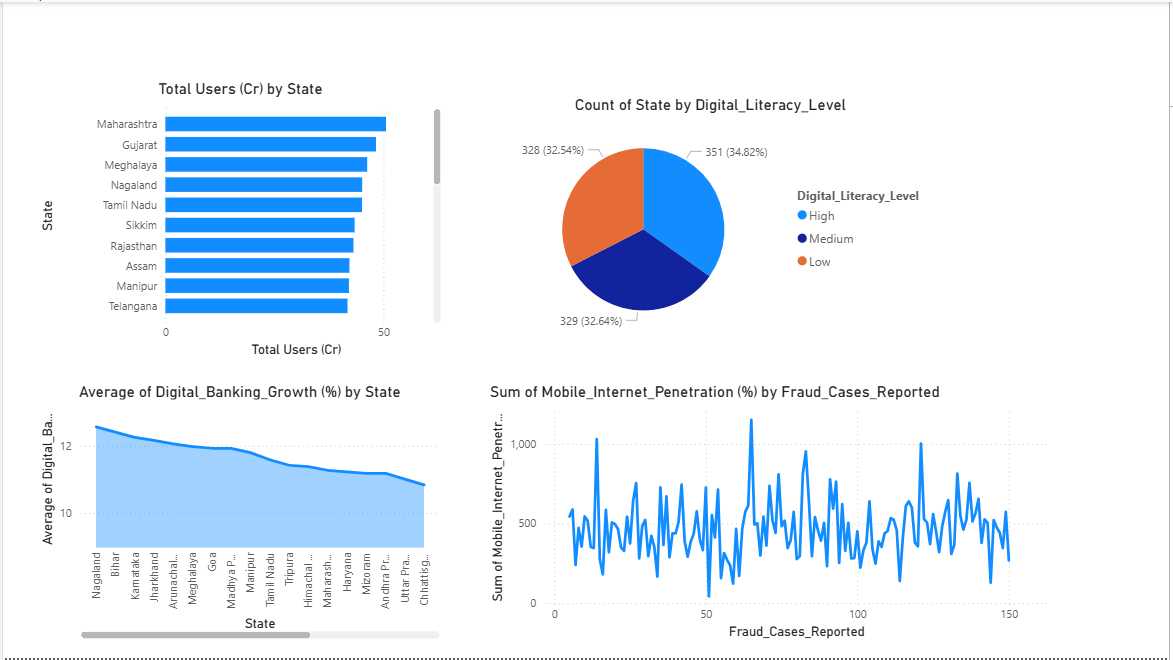

The page's visual inventory and layout, read from the dashboard file:
{"tool":"powerbi","page":{"name":"Page 2","canvas":[1280,720],"ordinal":1},"visuals":[{"type":"barChart","fields":{"Category":["India_Online_Banking_2020_2025_Detailed (1).State"],"Y":["India_Online_Banking_2020_2025_Detailed (1).Total Users (Cr)"]},"box":[35.7,85.1,450.1,310.1],"z":0},{"type":"pieChart","fields":{"Category":["India_Online_Banking_2020_2025_Detailed (1).Digital_Literacy_Level"],"Y":["CountNonNull(India_Online_Banking_2020_2025_Detailed (1).State)"]},"box":[529.7,102.9,494,274.4],"z":1000},{"type":"areaChart","fields":{"Y":["Avg(India_Online_Banking_2020_2025_Detailed (1).Digital_Banking_Growth (%))"],"Category":["India_Online_Banking_2020_2025_Detailed (1).State"]},"box":[35.7,417.2,448.7,286.8],"z":2000},{"type":"lineChart","fields":{"Y":["Sum(India_Online_Banking_2020_2025_Detailed (1).Mobile_Internet_Penetration (%))"],"Category":["India_Online_Banking_2020_2025_Detailed (1).Fraud_Cases_Reported"]},"box":[529.7,417.2,623,286.8],"z":3000}]}

Visuals, with their boxes in screenshot pixels (x1, y1, x2, y2), scaled from the page's 1280x720 canvas onto the 1173x660 screenshot:
barChart - India_Online_Banking_2020_2025_Detailed (1).State x India_Online_Banking_2020_2025_Detailed (1).Total Users (Cr): x1=33 y1=78 x2=445 y2=362
pieChart - India_Online_Banking_2020_2025_Detailed (1).Digital_Literacy_Level x CountNonNull(India_Online_Banking_2020_2025_Detailed (1).State): x1=485 y1=94 x2=938 y2=346
areaChart - Avg(India_Online_Banking_2020_2025_Detailed (1).Digital_Banking_Growth (%)) x India_Online_Banking_2020_2025_Detailed (1).State: x1=33 y1=382 x2=444 y2=645
lineChart - Sum(India_Online_Banking_2020_2025_Detailed (1).Mobile_Internet_Penetration (%)) x India_Online_Banking_2020_2025_Detailed (1).Fraud_Cases_Reported: x1=485 y1=382 x2=1056 y2=645
